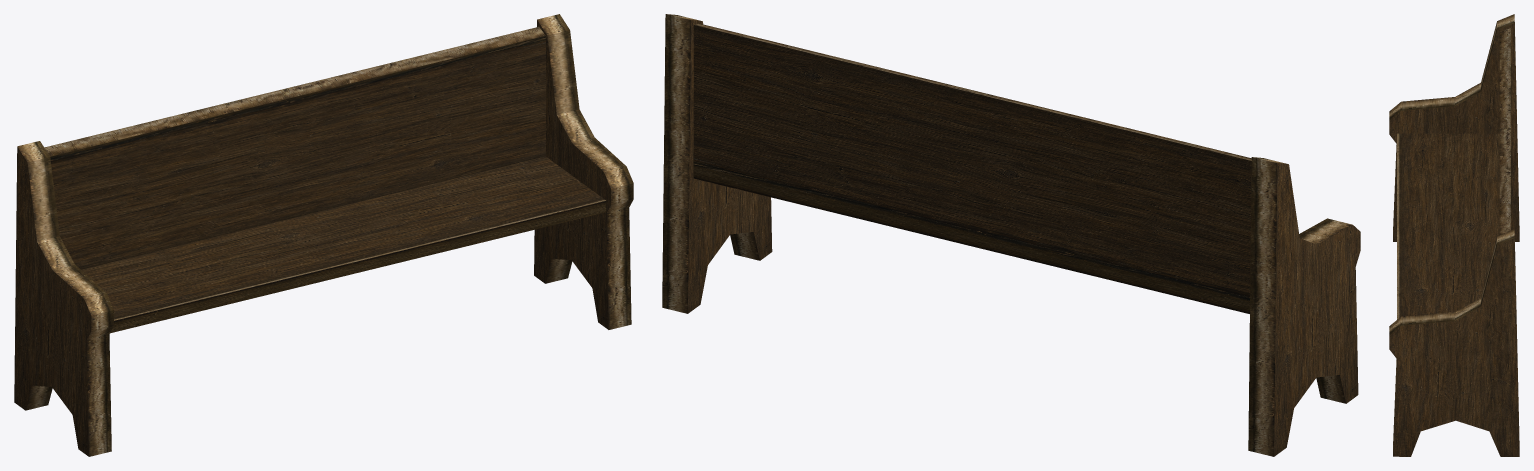
Rendered from mm9_deco_pew3ns.glb.
3 renders of one model, left to right at view 1: azimuth 30°, elevation 25°; view 2: azimuth 150°, elevation 25°; view 3: azimuth 270°, elevation 25°, orthographic. The views are drawn at different scales.
Visible parts, largest first — view 1: Pew3ns; view 2: Pew3ns; view 3: Pew3ns.
Part boxes in pixels (x1=…): Pew3ns: x1=14, y1=14, x2=633, y2=456; Pew3ns: x1=662, y1=14, x2=1360, y2=456; Pew3ns: x1=1389, y1=14, x2=1519, y2=456.
Bounding box in the file's own units: 3.35 × 1.53 × 0.8234.
1 material, 1 textured.
